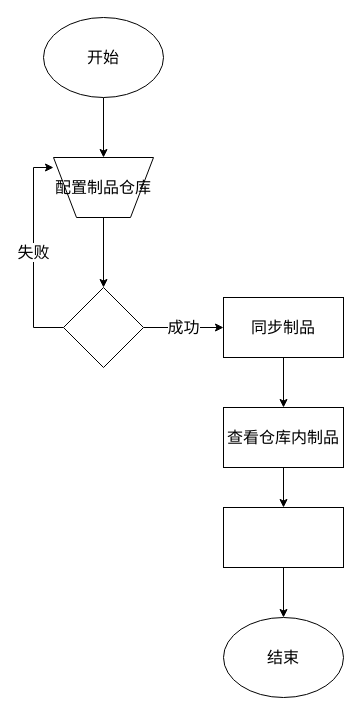
The diagram is 361 pixels wide and 715 high, and some of its shapes have lost their labels. Here are the shapes that lost their labels. From the top down, the box of each, then its label:
(62, 286, 144, 368): 连接
(222, 506, 344, 568): 查看制品同步记录
